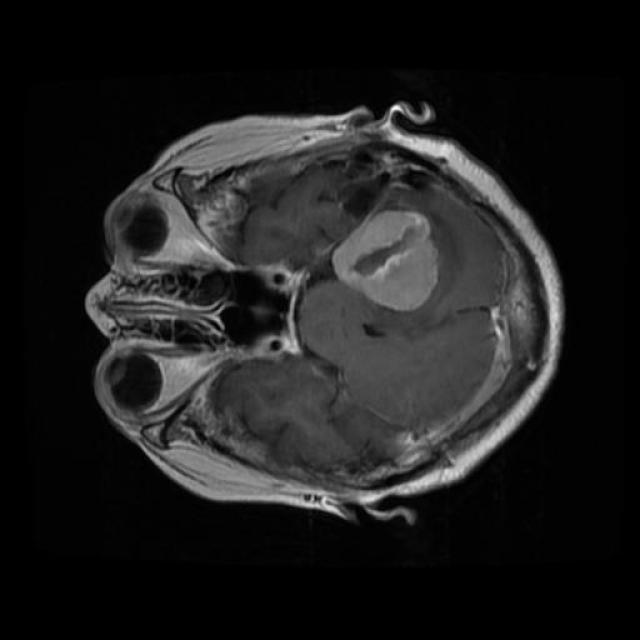Meningioma: (333, 211, 439, 311)
